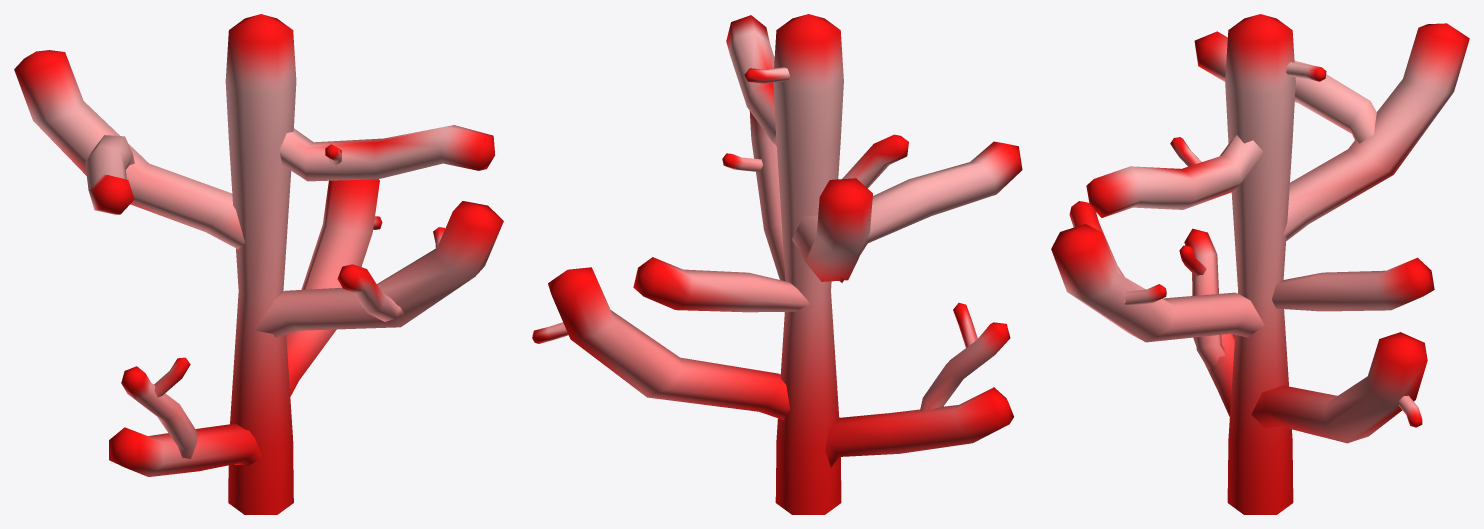
File: Plant_6.fbx
3 views of the same model, side by side, from view 1: azimuth 30°, elevation 25°; view 2: azimuth 150°, elevation 25°; view 3: azimuth 270°, elevation 25° (orthographic).
Parts seen in each view (by area): view 1: Cylinder.015; view 2: Cylinder.015; view 3: Cylinder.015.
Boxes of the visible parts, x1,y1,x2,y2 form: Cylinder.015: (14, 14, 503, 514); Cylinder.015: (532, 14, 1022, 514); Cylinder.015: (1051, 14, 1469, 514).
Bounding box in the file's own units: 11.95 × 14.44 × 11.21.
1 material, 1 textured.
